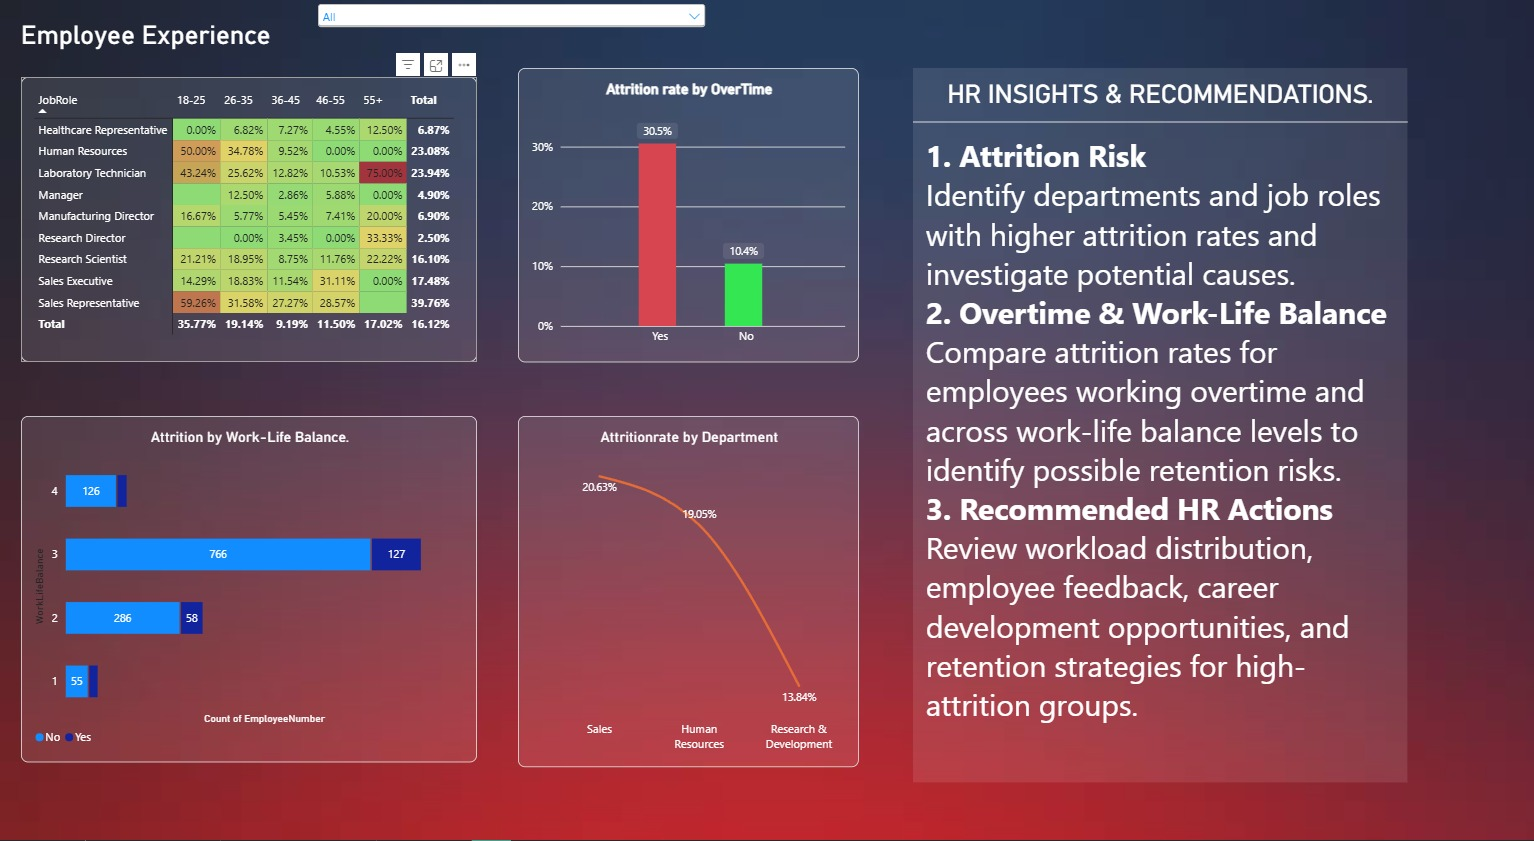

Layout of this report page (visuals, bound fields, positions):
{"tool":"powerbi","page":{"name":"Employee Experience","canvas":[1920,1080],"ordinal":1},"visuals":[{"type":"clusteredColumnChart","title":"Attrition rate by OverTime","fields":{"Category":["HR_Analytics.OverTime"],"Y":["HR_Analytics.Attritionrate"]},"box":[647.5,85,426.2,367.5],"z":0},{"type":"textbox","title":"Employee Experience","box":[26.7,25,391.7,71.7],"z":1},{"type":"lineChart","fields":{"Category":["HR_Analytics.Department"],"Y":["HR_Analytics.Attritionrate"]},"box":[647.5,520,426.2,438.8],"z":2},{"type":"barChart","title":"Attrition by Work-Life Balance.","fields":{"Category":["HR_Analytics.WorkLifeBalance"],"Series":["HR_Analytics.Attrition"],"Y":["CountNonNull(HR_Analytics.EmployeeNumber)"]},"box":[26.7,520,570,432.5],"z":3},{"type":"pivotTable","fields":{"Columns":["HR_Analytics.AgeGroup"],"Rows":["HR_Analytics.JobRole"],"Values":["HR_Analytics.Attritionrate"]},"box":[26.2,96.2,570,356.2],"z":4},{"type":"textbox","title":"HR INSIGHTS & RECOMMENDATIONS.","box":[1141.2,85,617.5,892.5],"z":5},{"type":"slicer","fields":{"Values":["HR_Analytics.Department"]},"box":[392.5,0,493.8,61.2],"z":6}]}

Visuals, with their boxes in screenshot pixels (x1, y1, x2, y2), scaled from the page's 1920x1080 canvas onto the 1534x841 screenshot:
"Attrition rate by OverTime" clusteredColumnChart: [517,66,858,352]
"Employee Experience" textbox: [21,19,334,75]
lineChart - HR_Analytics.Department x HR_Analytics.Attritionrate: [517,405,858,747]
"Attrition by Work-Life Balance." barChart: [21,405,477,742]
pivotTable - HR_Analytics.AgeGroup x HR_Analytics.JobRole: [21,75,476,352]
"HR INSIGHTS & RECOMMENDATIONS." textbox: [912,66,1405,761]
slicer - HR_Analytics.Department: [314,0,708,48]
